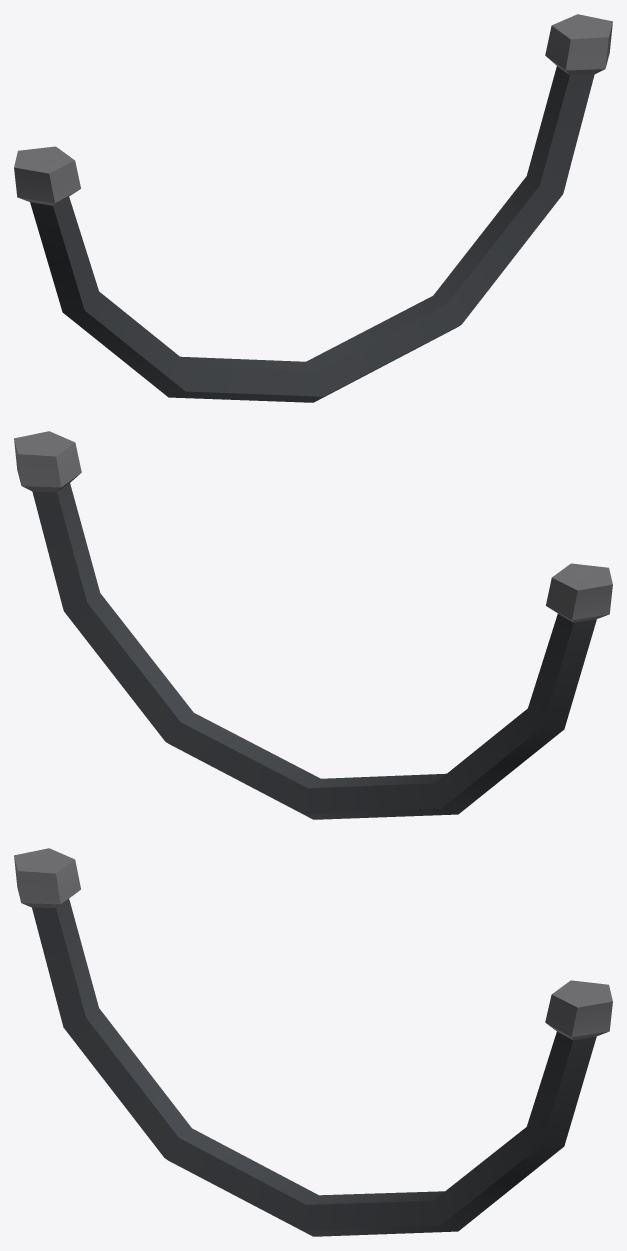
Rendered from SM_Prop_Wires_06.fbx.
3 views of the same model, one above another, from view 1: azimuth 30°, elevation 25°; view 2: azimuth 150°, elevation 25°; view 3: azimuth 330°, elevation 25° (orthographic).
Visible parts, largest first — view 1: SM_Prop_Wires_06; view 2: SM_Prop_Wires_06; view 3: SM_Prop_Wires_06.
Part boxes in pixels (bbox=[...]): SM_Prop_Wires_06: bbox=[14, 14, 612, 402]; SM_Prop_Wires_06: bbox=[14, 431, 612, 819]; SM_Prop_Wires_06: bbox=[14, 848, 612, 1236].
Size of the model in its own units: 49.56 by 24.5 by 4.88.
